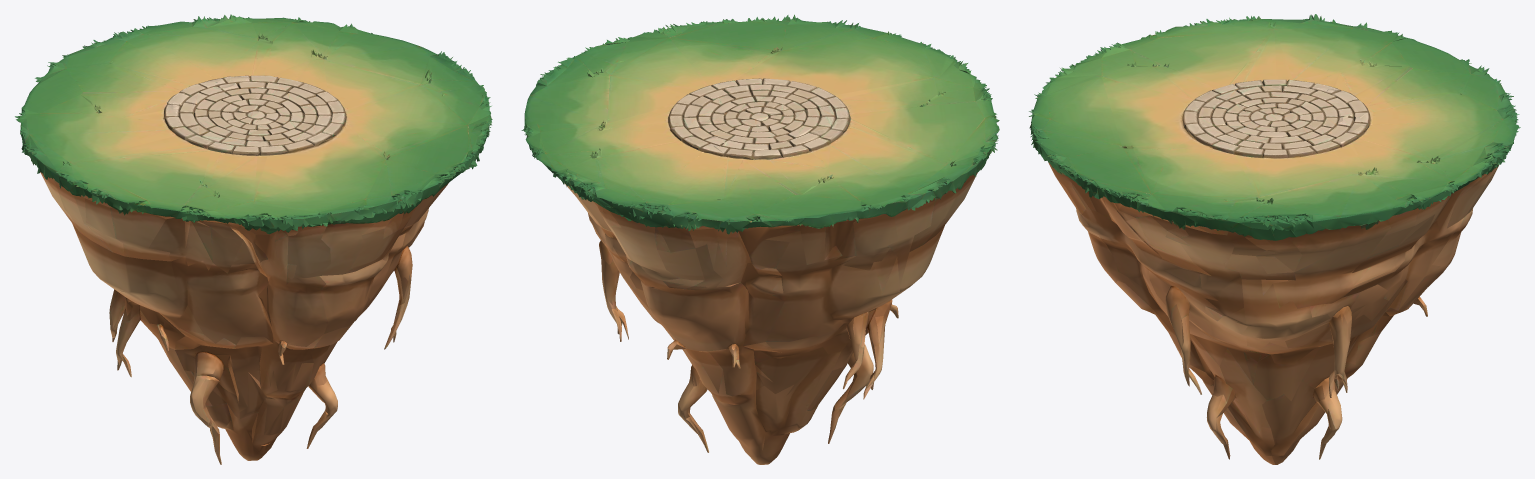
The model's file is island-base.glb.
The picture shows the model from 3 angles, left to right: view 1: azimuth 30°, elevation 25°; view 2: azimuth 150°, elevation 25°; view 3: azimuth 270°, elevation 25°; orthographic projection.
Bounding box in the file's own units: 1.87 × 1.5 × 1.9.
Materials: 1 (1 with a texture image).
